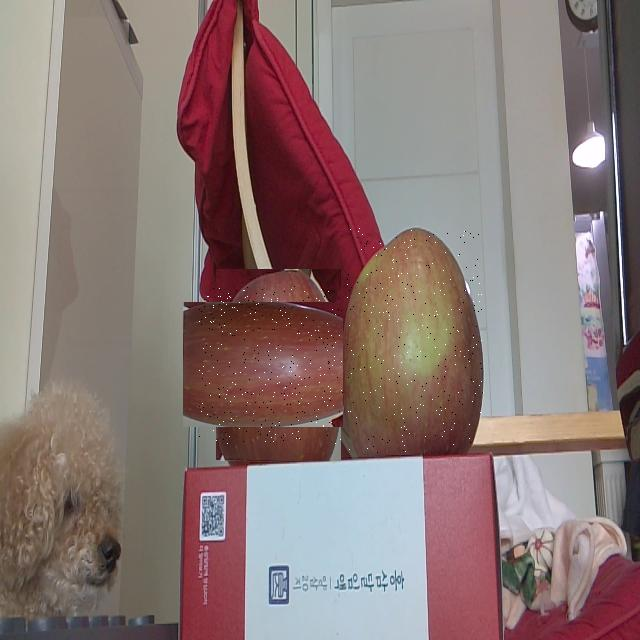apple: (343, 227, 484, 453), (199, 286, 358, 444)
